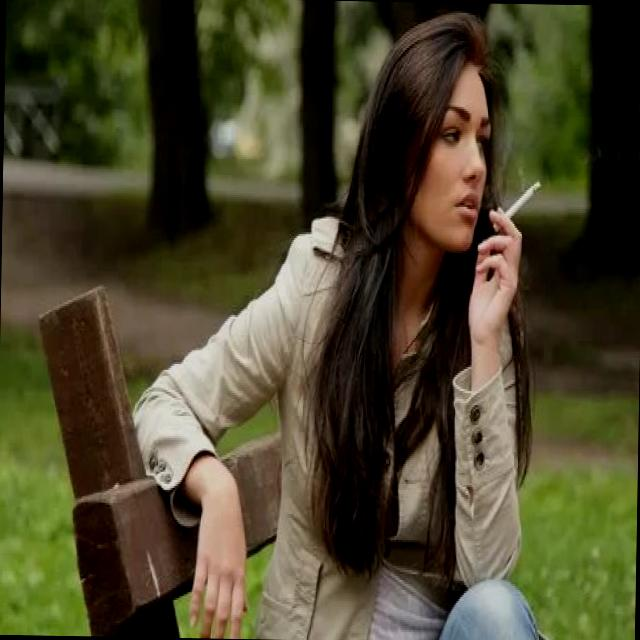cigarette: (492, 175, 540, 236)
